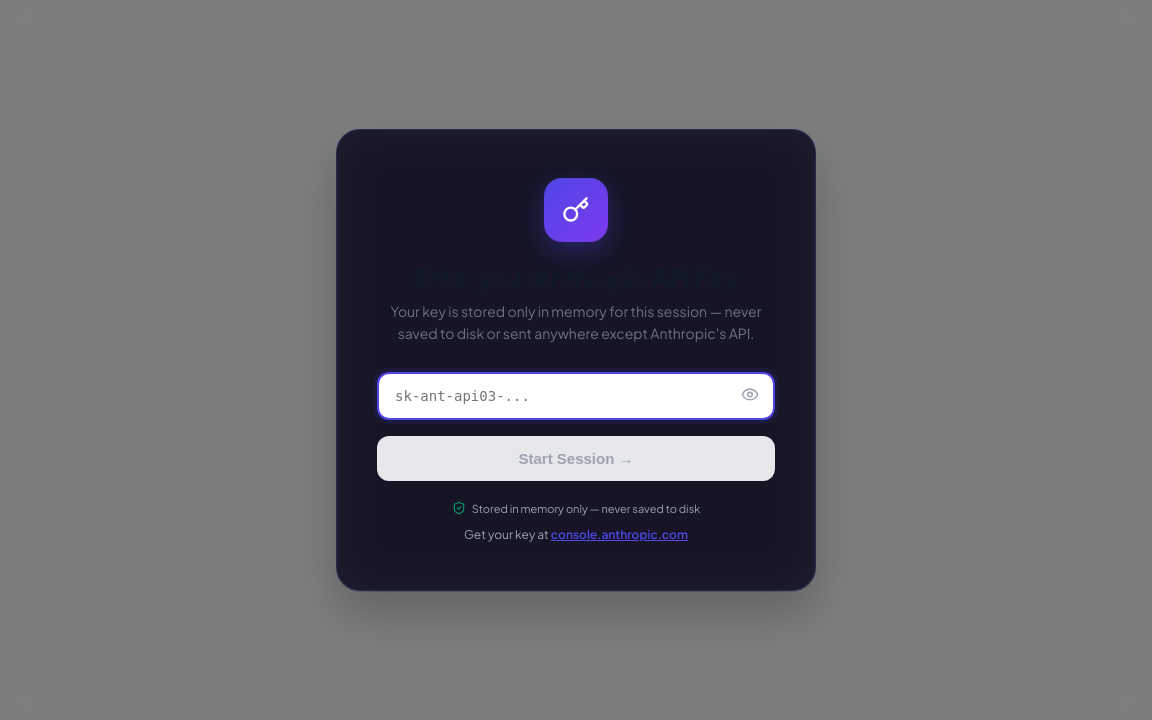
Scenario: ApiKeyModal › enables button when key starts with sk-
The image size is (1152, 720).
Type "sk-ant-test-key" into the password field with placeholder "sk-ant-api03-..." at point(576, 396), box [377,372,775,420]
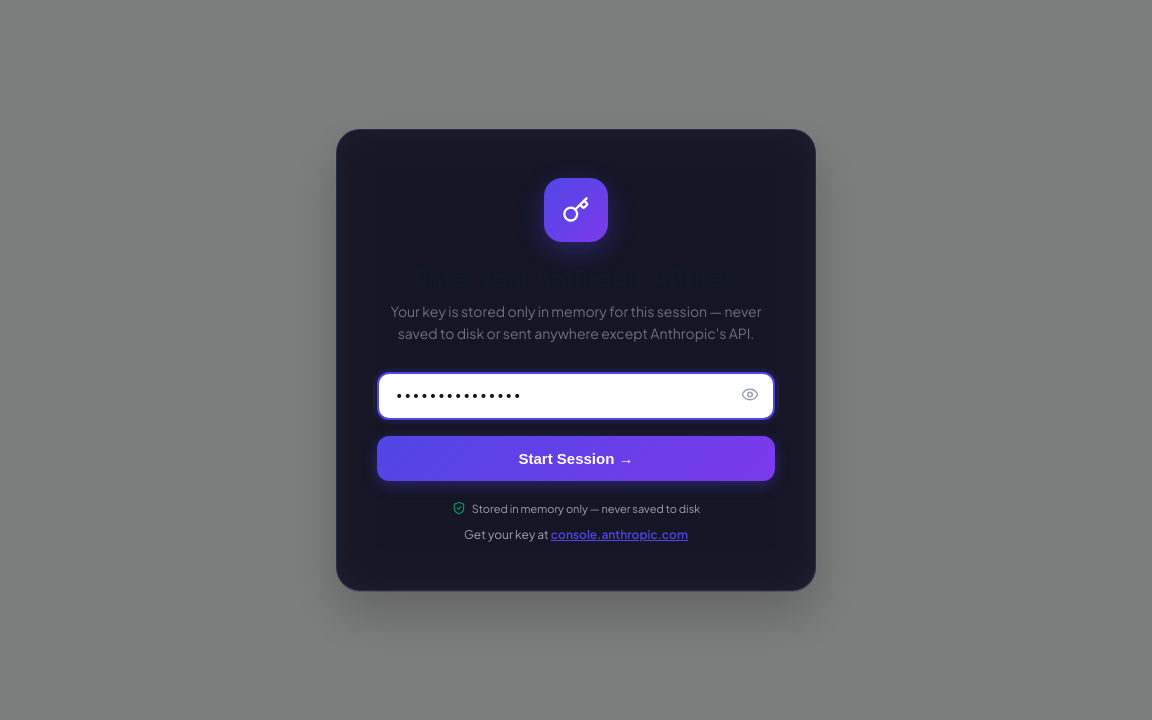
Check: the button "Start Session →" is enabled, box [377,436,775,481]
